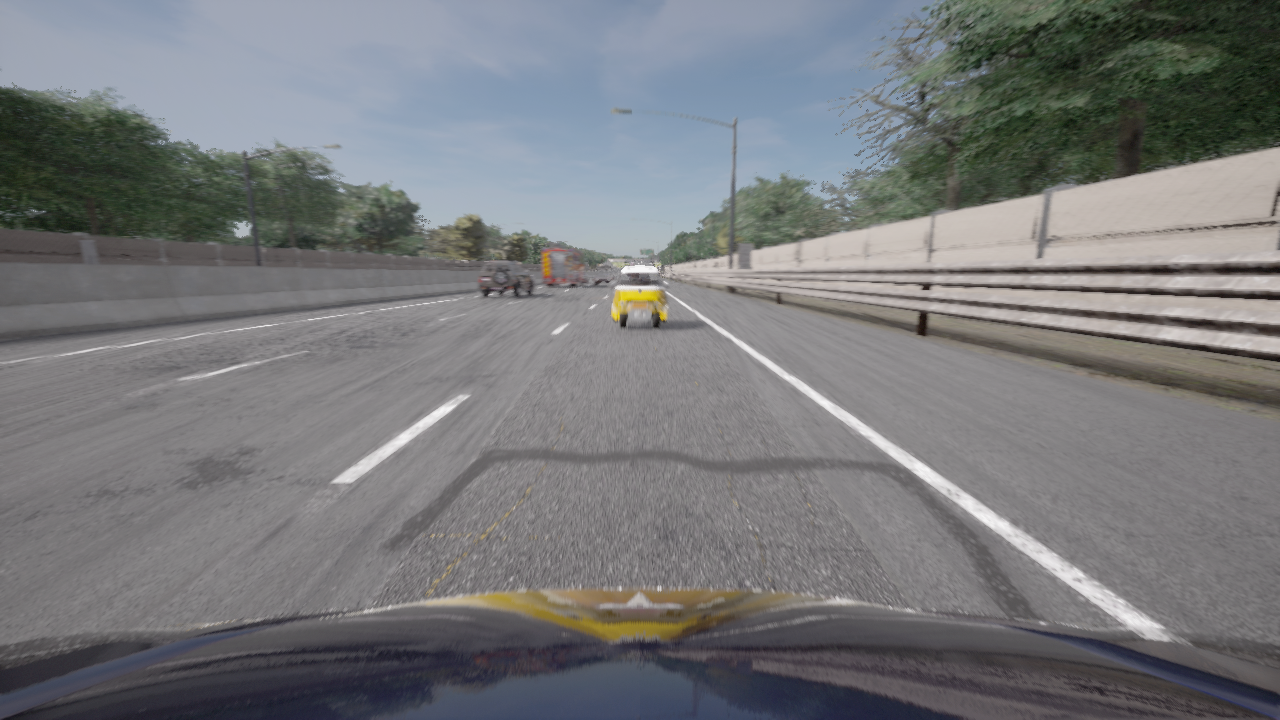cyclist: (0, 588, 1279, 719), (610, 266, 669, 328), (478, 261, 534, 297), (542, 243, 587, 286), (594, 273, 614, 285), (584, 274, 587, 283)
